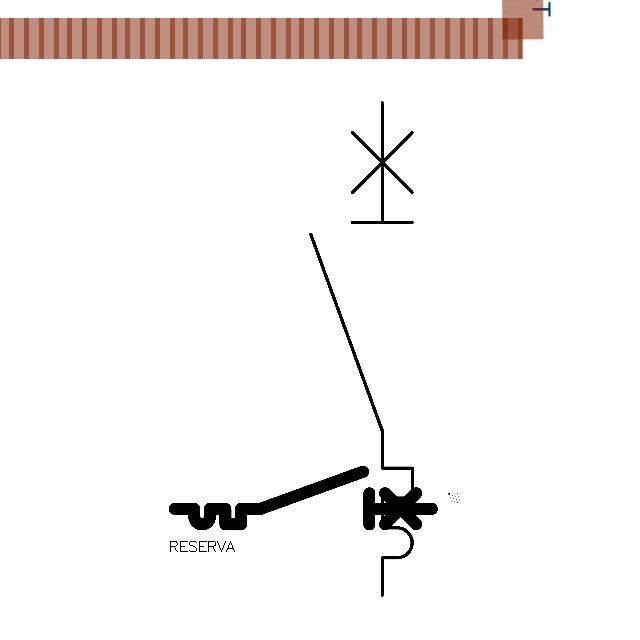interruptor_termomagnetico: (298, 90, 425, 608), (168, 465, 438, 531)
